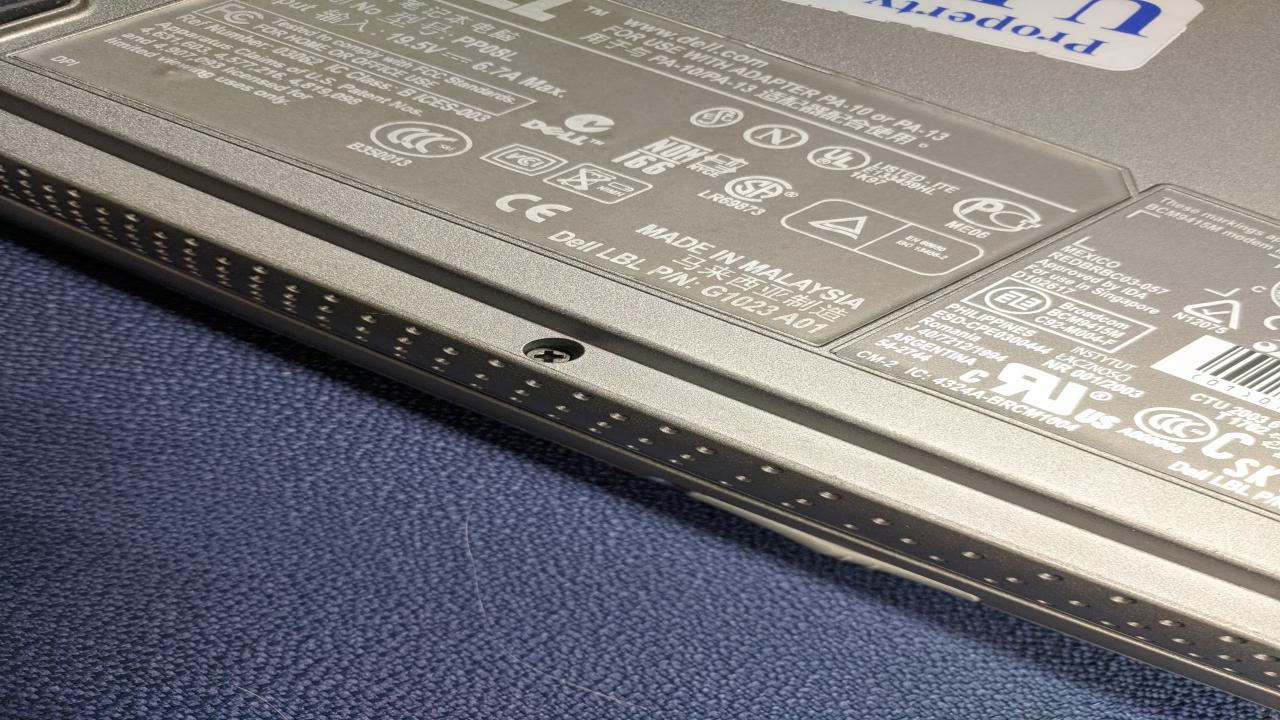CRS: (522, 342, 580, 366)
